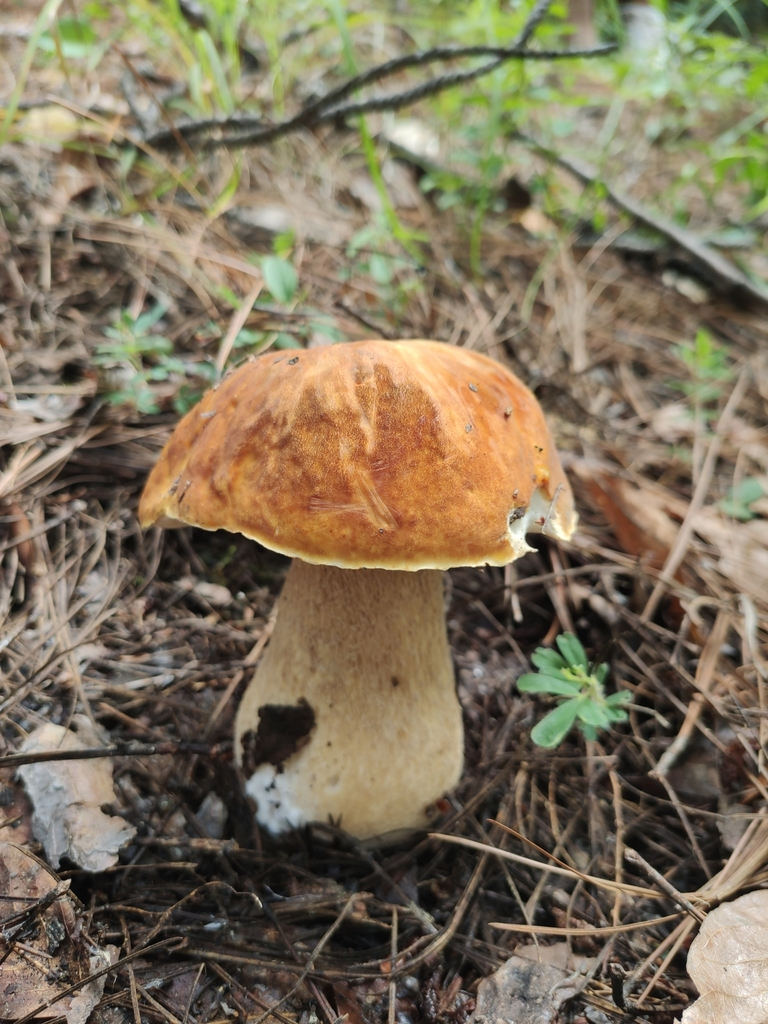Cap: (140, 340, 576, 570)
Stem: (236, 559, 462, 838)
